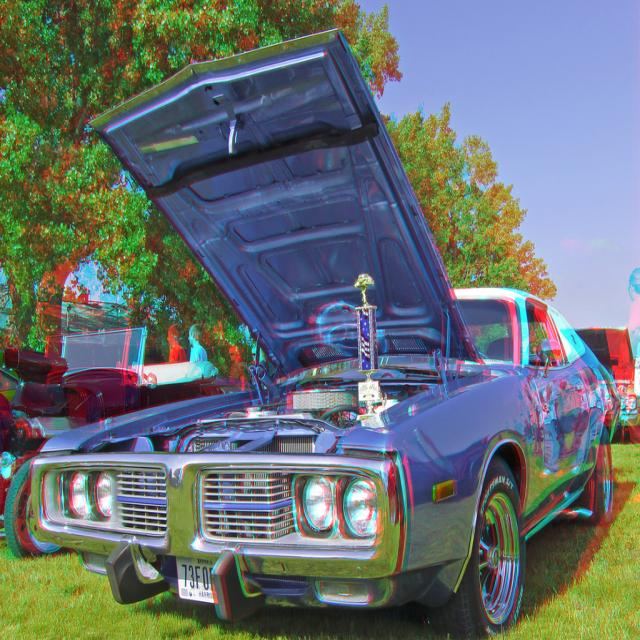car: (24, 20, 620, 639)
